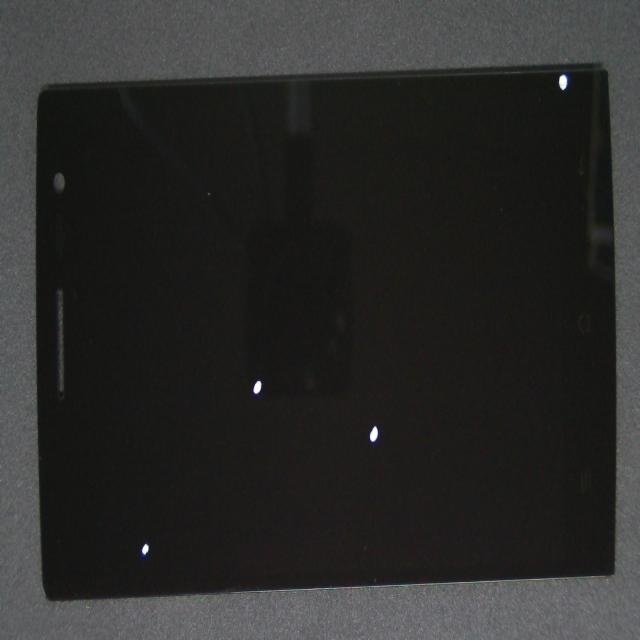stain: (148, 229, 563, 640), (94, 196, 372, 614), (79, 239, 203, 640), (283, 81, 640, 152)
